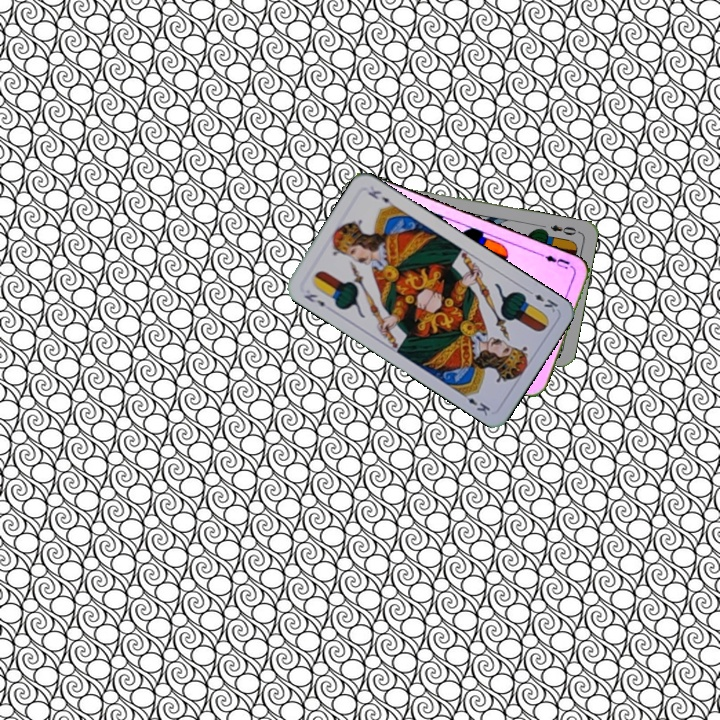EK: (523, 285, 561, 315), (300, 290, 327, 309)
EO: (546, 221, 582, 238)
EU: (538, 250, 576, 273)
